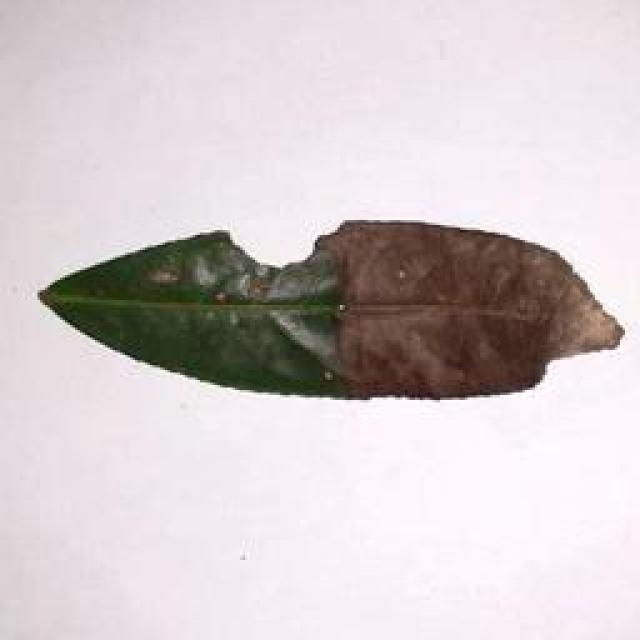Brown Blight: (33, 221, 622, 424)
